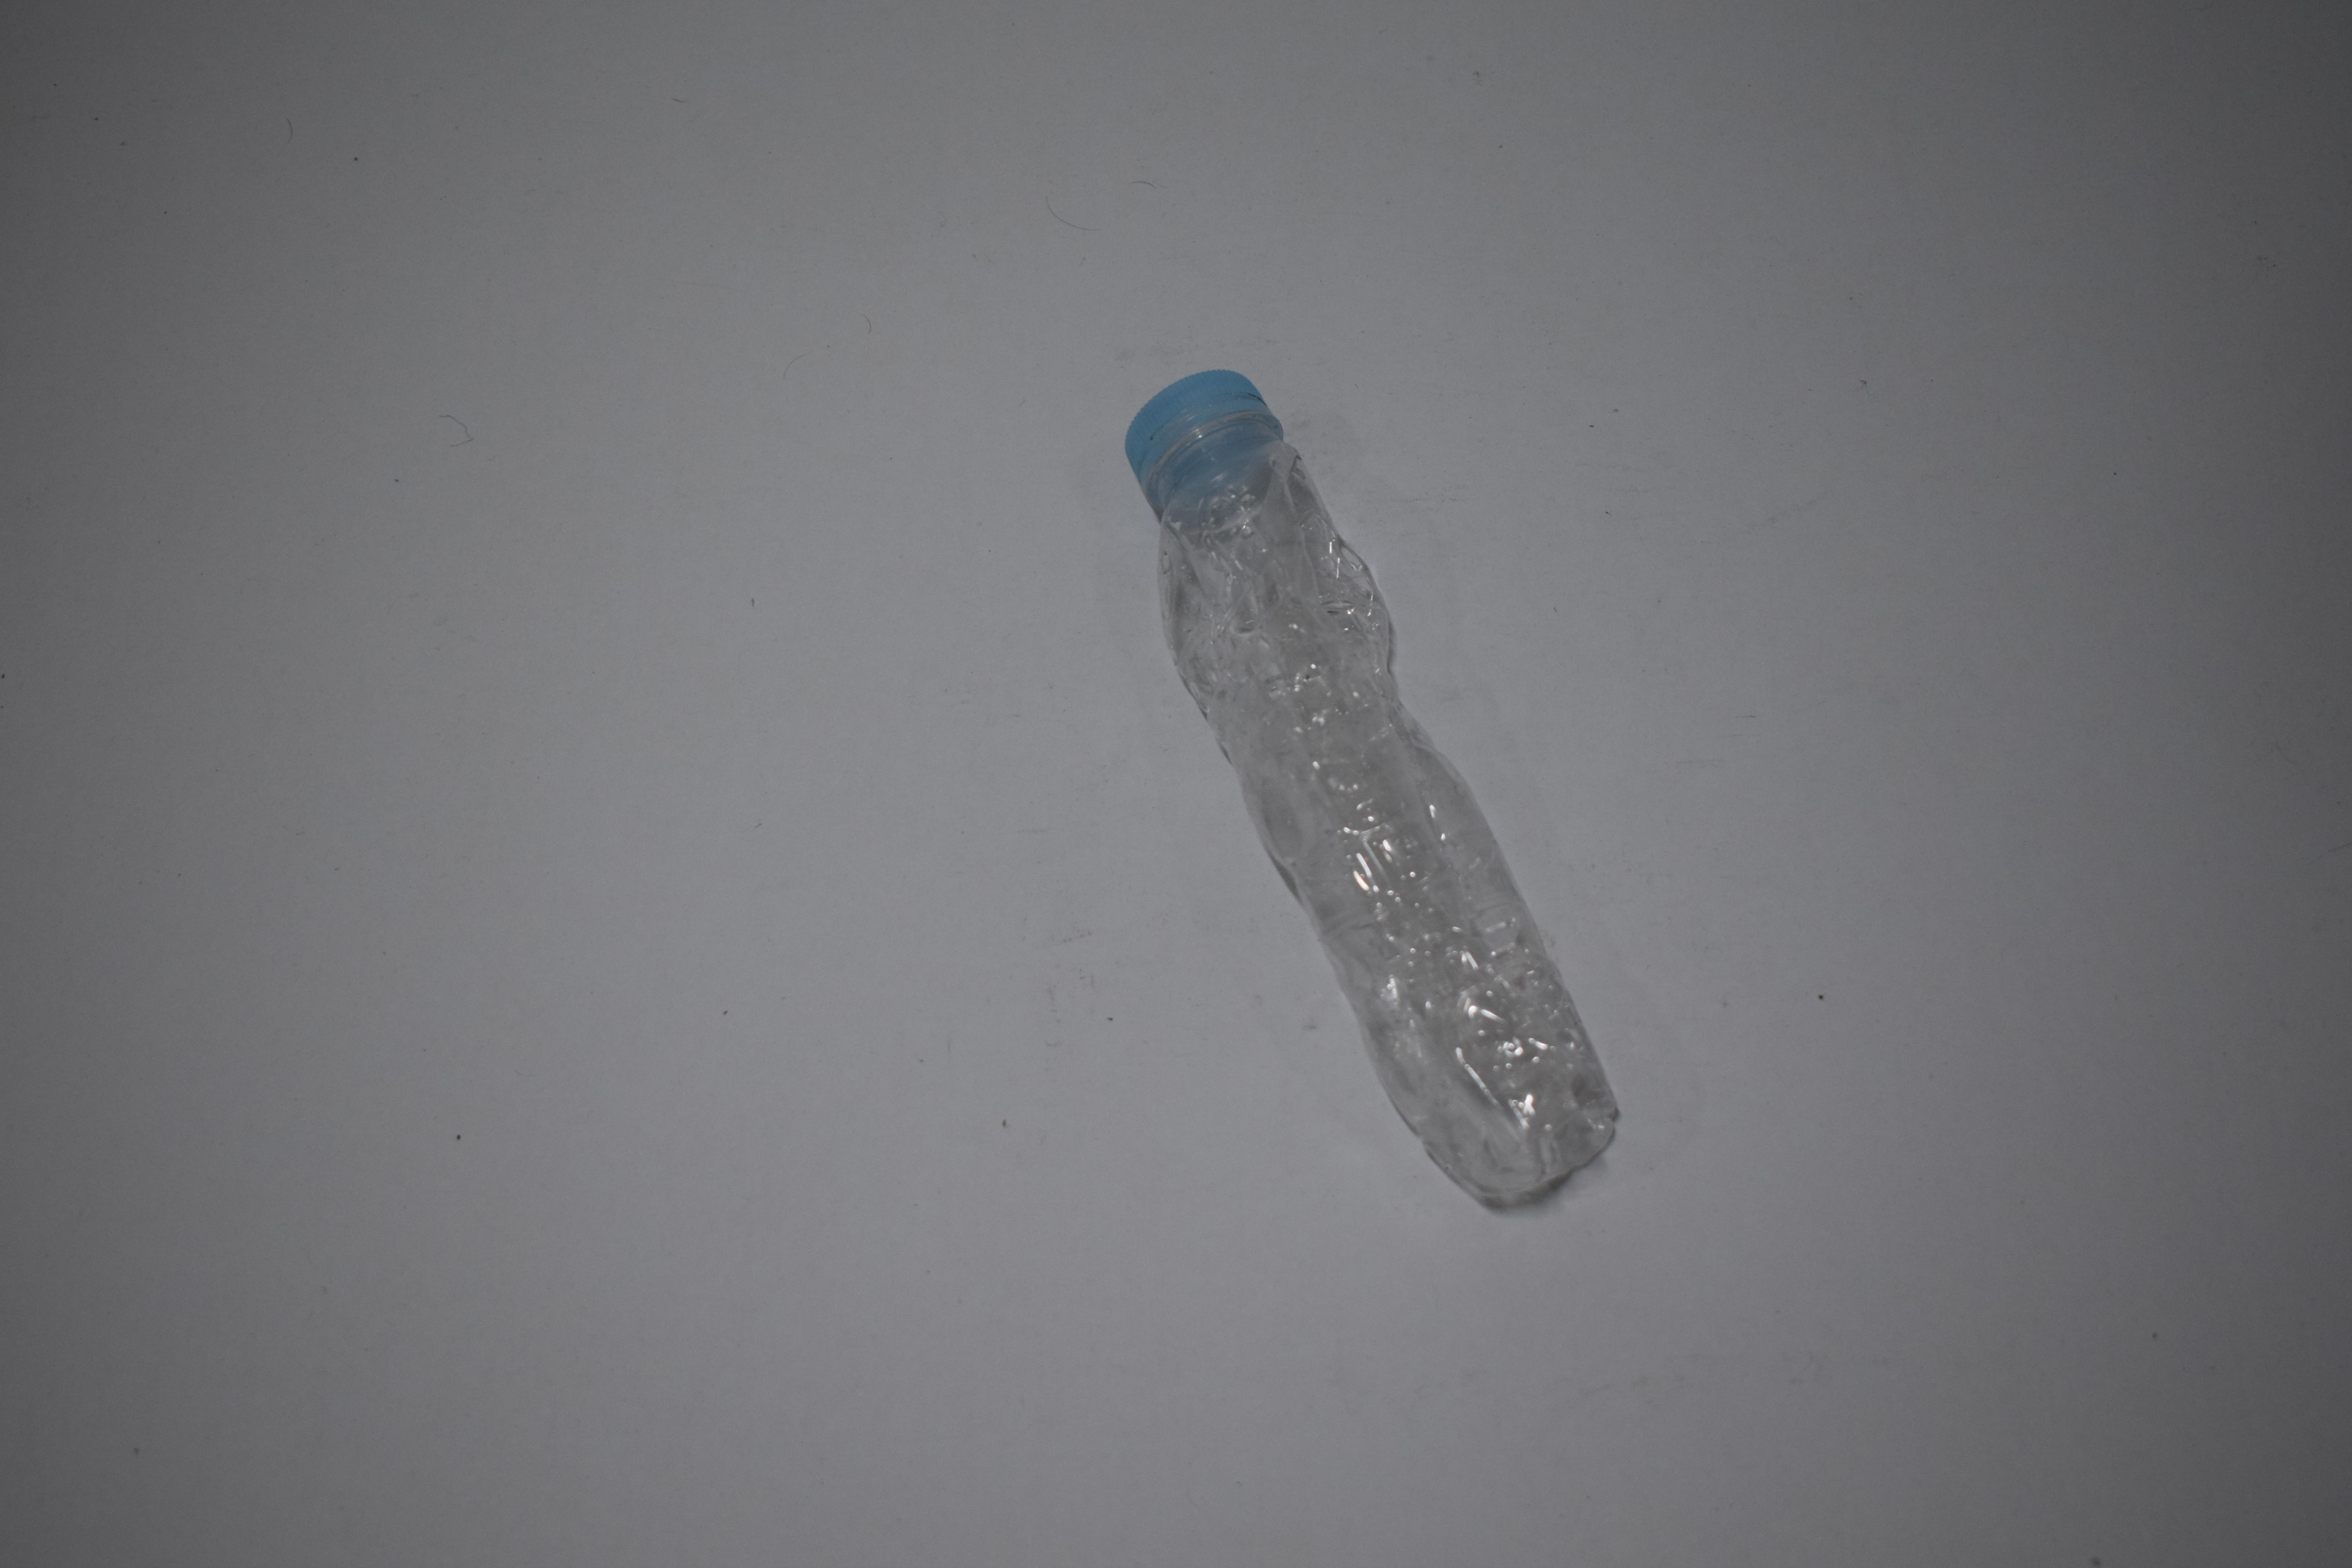bottle: (0, 0, 445, 42)
